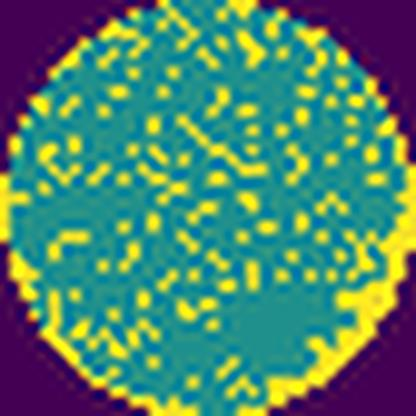Edge-Loc: (233, 110, 415, 416), (25, 283, 204, 416), (0, 245, 44, 306), (0, 166, 29, 244)
